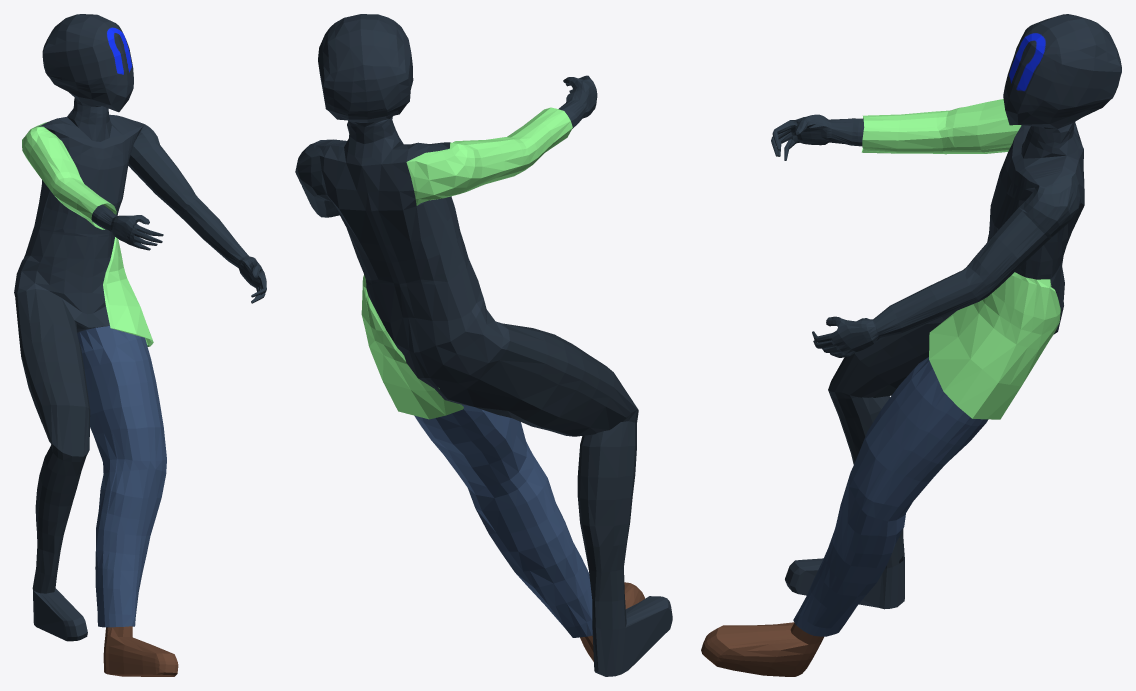
File: Mar_Die_000007.obj
The picture shows the model from 3 angles, left to right: view 1: azimuth 30°, elevation 25°; view 2: azimuth 150°, elevation 25°; view 3: azimuth 270°, elevation 25°; orthographic projection. The views are drawn at different scales.
Parts seen in each view (by area): view 1: Cube.000_Cube.001; view 2: Cube.000_Cube.001; view 3: Cube.000_Cube.001.
Part boxes in pixels (left/top/right/bottom): Cube.000_Cube.001: left=14, top=14, right=266, bottom=676; Cube.000_Cube.001: left=295, top=14, right=672, bottom=676; Cube.000_Cube.001: left=701, top=14, right=1121, bottom=676.
Bounding box in the file's own units: 1.45 × 3.59 × 1.95.
